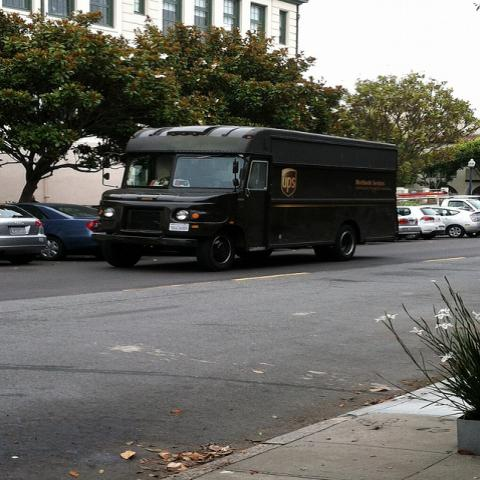car: (21, 202, 103, 257), (0, 204, 49, 265), (398, 206, 446, 239), (433, 206, 479, 238), (397, 214, 422, 234), (82, 205, 99, 210)
truck: (92, 124, 400, 272), (396, 192, 479, 213)
